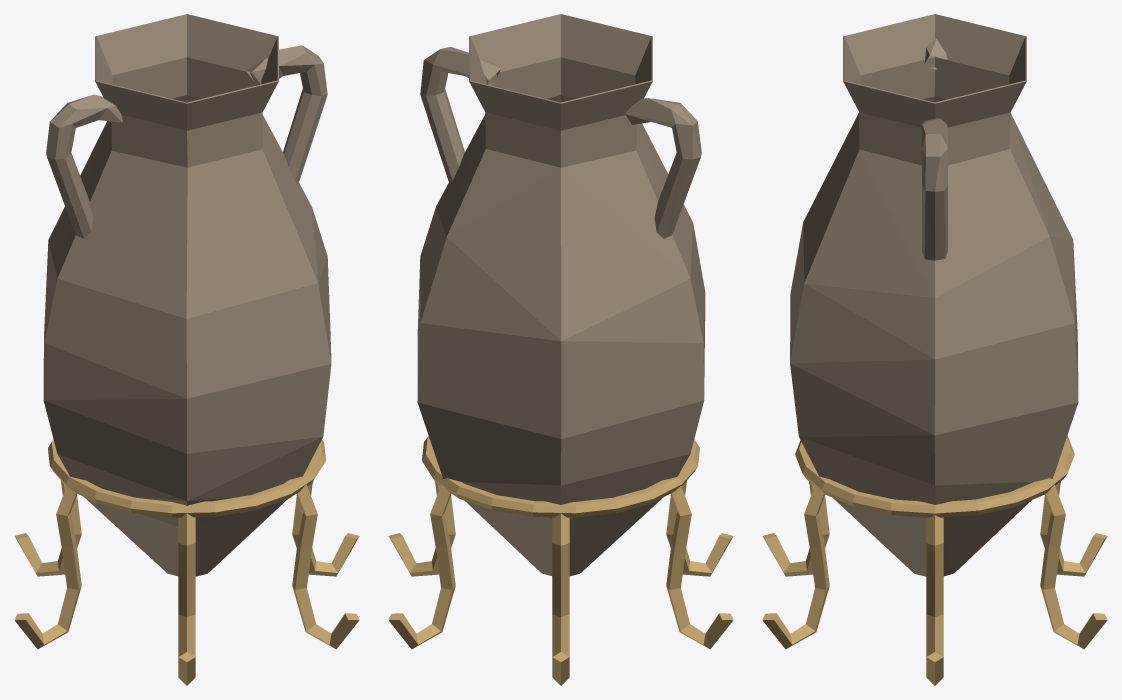
The model's file is Jar_001.fbx.
3 views of the same model, side by side, from view 1: azimuth 30°, elevation 25°; view 2: azimuth 150°, elevation 25°; view 3: azimuth 270°, elevation 25° (orthographic).
Parts seen in each view (by area): view 1: Jar.001; view 2: Jar.001; view 3: Jar.001.
Boxes of the visible parts, x1,y1,x2,y2 form: Jar.001: (14, 14, 359, 685); Jar.001: (388, 14, 733, 685); Jar.001: (762, 14, 1107, 685).
Size of the model in its own units: 212 by 326 by 184.
